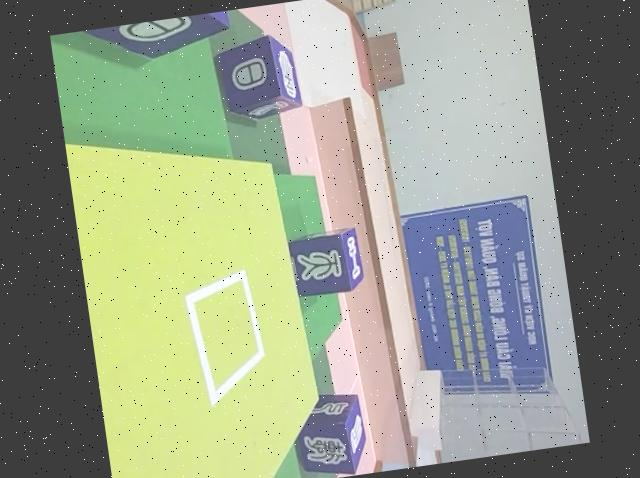R2 Fake Blue: (54, 10, 238, 74), (210, 29, 304, 124), (286, 386, 368, 478), (286, 225, 367, 301)
